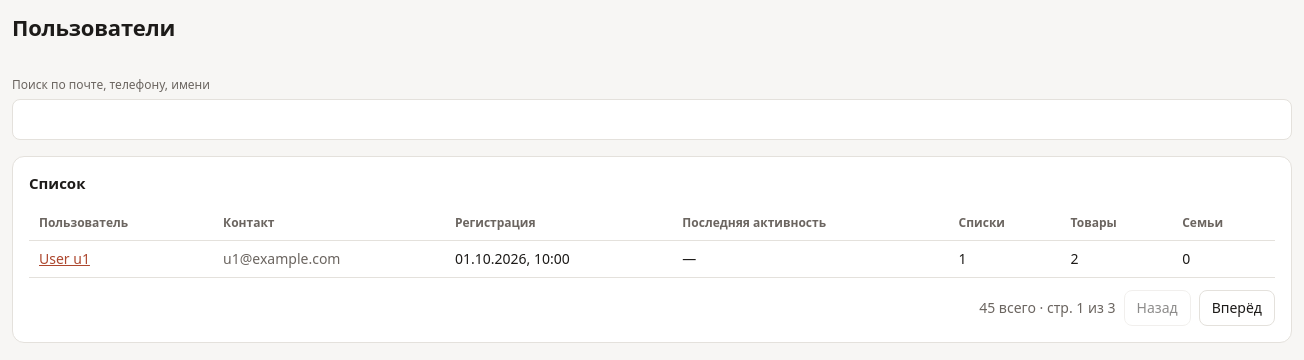
it: UsersPage › disables pagination buttons at the bounds
Expected: the text "45 всего · стр. 1 из 3" is shown, 979,298 -> 1116,318
Expected: the button "Назад" is disabled, 1124,290 -> 1191,326
Click the button "Вперёд": [1237, 308] box 1199,290 -> 1275,326
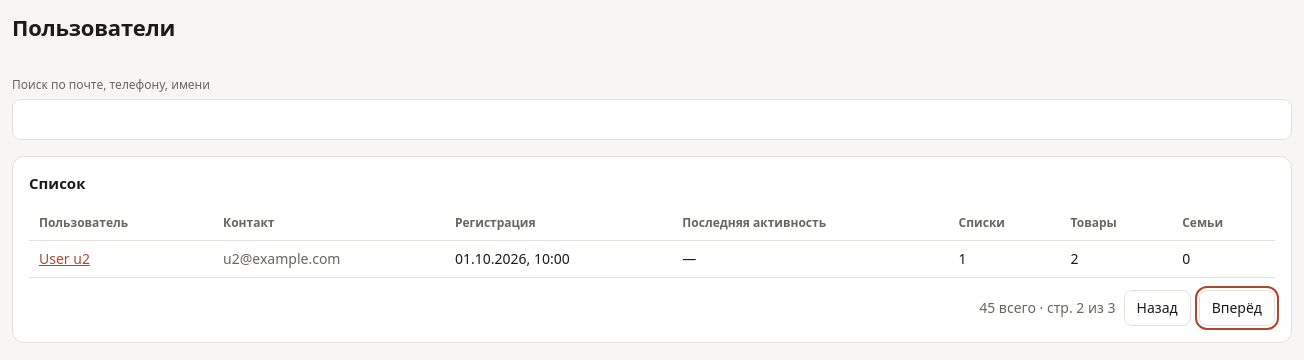
Now the text "45 всего · стр. 2 из 3" is shown, box 979,298 -> 1116,318
Now the button "Назад" is enabled, box 1124,290 -> 1191,326
Click the button "Вперёд": [1237, 308] box 1199,290 -> 1275,326
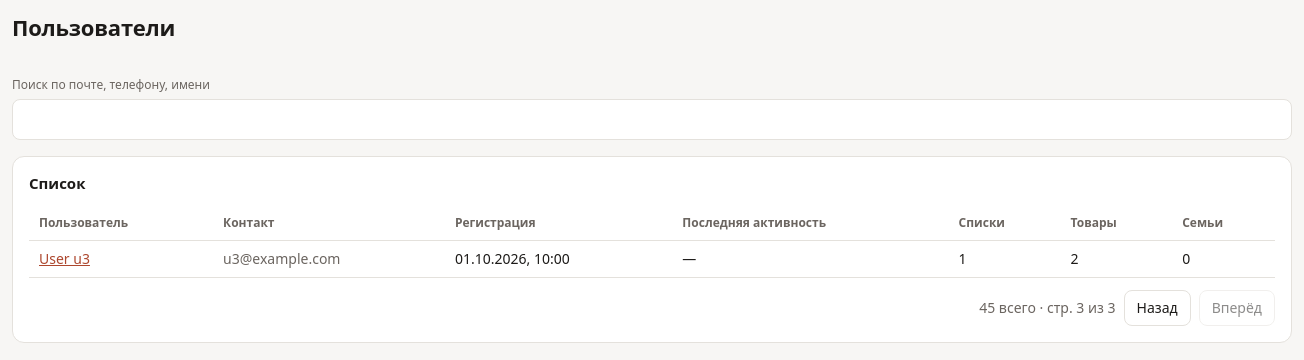
Now the button "Назад" is enabled, box 1124,290 -> 1191,326
Now the text "45 всего · стр. 3 из 3" is shown, box 979,298 -> 1116,318
Now the button "Вперёд" is disabled, box 1199,290 -> 1275,326
